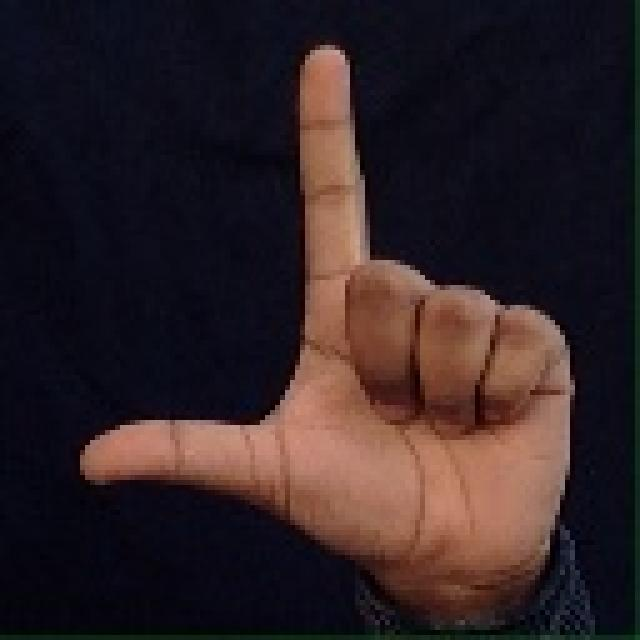X: (65, 30, 590, 620)
